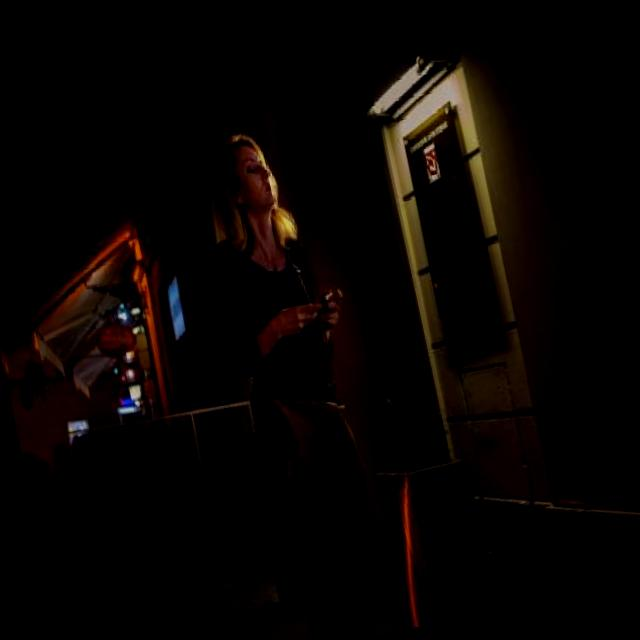Person: (160, 124, 404, 640)
